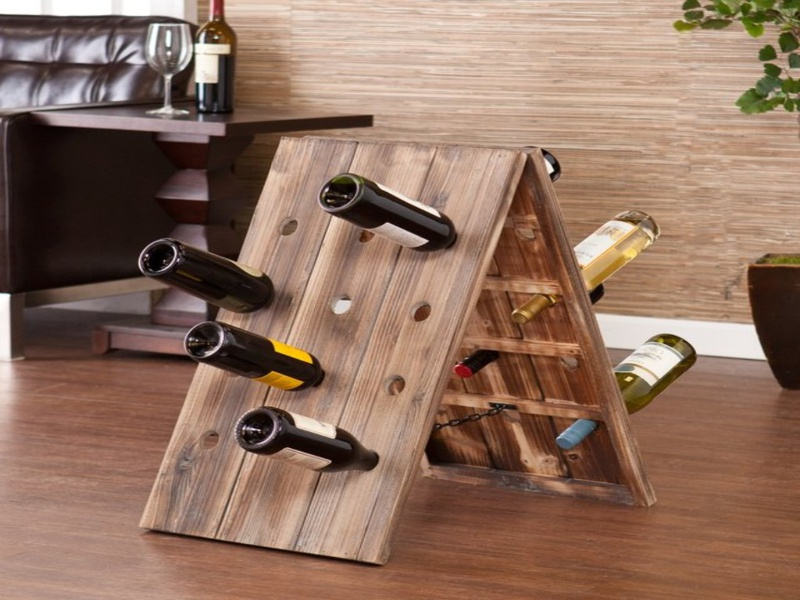wine: (122, 167, 461, 561), (460, 136, 704, 538), (190, 3, 251, 134)
